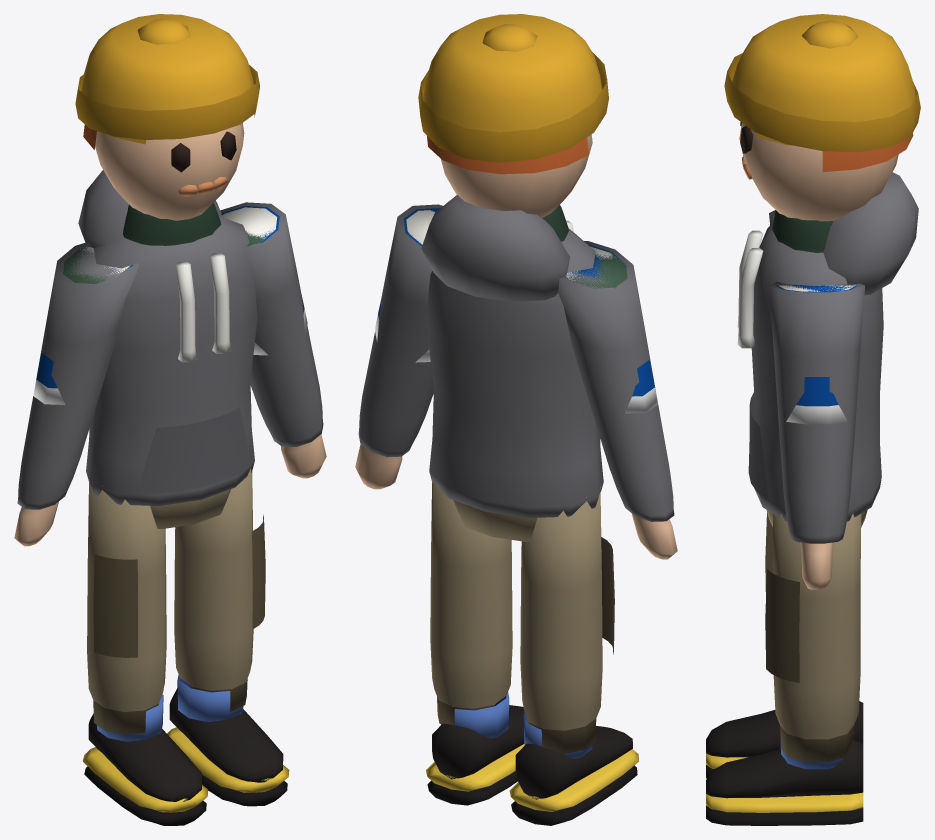
The picture shows the model from 3 angles, left to right: view 1: azimuth 30°, elevation 25°; view 2: azimuth 150°, elevation 25°; view 3: azimuth 270°, elevation 25°; orthographic projection. The views are drawn at different scales.
Parts seen in each view (by area): view 1: hoodie, cargo, beanie, shoes, body, sweater, jeans, clubShirt, face, tee; view 2: hoodie, cargo, beanie, shoes, body, hair, jeans, clubShirt, sweater, tee; view 3: hoodie, beanie, cargo, shoes, body, clubShirt, sweater, hair, jeans, face.
Boxes of the visible parts, left/top/right/bottom form: hoodie: left=17, top=170, right=323, bottom=509; cargo: left=87, top=468, right=265, bottom=734; beanie: left=75, top=14, right=259, bottom=144; shoes: left=82, top=688, right=289, bottom=825; body: left=14, top=123, right=326, bottom=546; sweater: left=63, top=202, right=265, bottom=283; jeans: left=97, top=674, right=243, bottom=741; clubShirt: left=33, top=206, right=307, bottom=404; face: left=171, top=131, right=236, bottom=196; tee: left=80, top=207, right=277, bottom=275; hoodie: left=358, top=195, right=674, bottom=521; cargo: left=430, top=480, right=614, bottom=753; beanie: left=418, top=14, right=608, bottom=162; shoes: left=426, top=705, right=638, bottom=825; body: left=355, top=134, right=677, bottom=559; hair: left=427, top=136, right=589, bottom=174; jeans: left=441, top=692, right=592, bottom=758; clubShirt: left=374, top=208, right=657, bottom=413; sweater: left=542, top=205, right=627, bottom=288; tee: left=406, top=210, right=612, bottom=280; hoodie: left=737, top=172, right=918, bottom=543; beanie: left=724, top=14, right=920, bottom=152; cargo: left=765, top=510, right=867, bottom=762; shoes: left=706, top=701, right=863, bottom=825; body: left=739, top=123, right=898, bottom=589; clubShirt: left=775, top=284, right=856, bottom=424; sweater: left=772, top=210, right=853, bottom=289; hair: left=822, top=133, right=913, bottom=172; jeans: left=780, top=732, right=853, bottom=769; face: left=740, top=122, right=753, bottom=179.
Size of the model in its own units: 0.3954 by 0.9193 by 0.2322.
